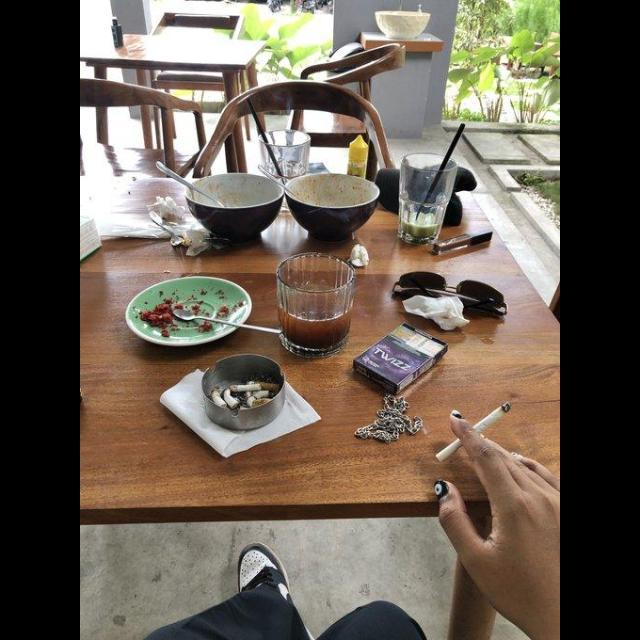rokok: (434, 398, 510, 464)
